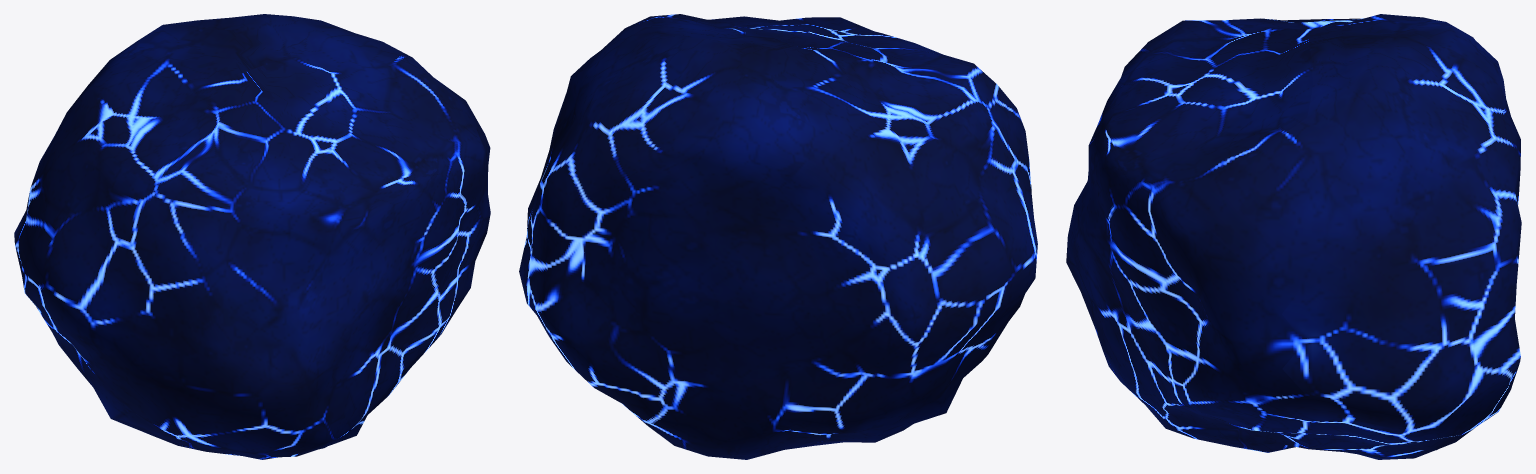
The model's file is rock_warm_azure.glb.
3 renders of one model, left to right at view 1: azimuth 30°, elevation 25°; view 2: azimuth 150°, elevation 25°; view 3: azimuth 270°, elevation 25°, orthographic. The views are drawn at different scales.
Parts seen in each view (by area): view 1: rock; view 2: rock; view 3: rock.
Boxes of the visible parts, box(x1,y1,x2,y2) form: rock: box(14, 14, 490, 459); rock: box(519, 14, 1037, 459); rock: box(1066, 14, 1521, 459).
Bounding box in the file's own units: 2.04 × 1.74 × 1.71.
1 material, 1 textured.
